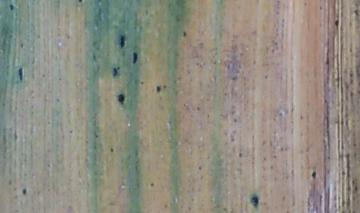tarspot: (248, 194, 260, 207), (117, 33, 126, 49), (115, 93, 125, 106), (111, 65, 121, 78), (17, 67, 24, 81), (131, 51, 138, 65), (310, 169, 317, 180), (20, 187, 28, 196), (66, 127, 74, 136), (155, 84, 162, 93), (353, 8, 360, 17), (334, 18, 339, 30), (8, 3, 15, 11), (18, 41, 25, 49), (54, 96, 61, 103), (181, 29, 187, 37), (56, 75, 62, 83), (109, 145, 114, 154), (148, 181, 155, 187), (237, 151, 243, 158), (196, 163, 202, 170), (161, 84, 168, 90), (40, 73, 46, 78), (139, 79, 144, 85), (76, 1, 83, 3)
